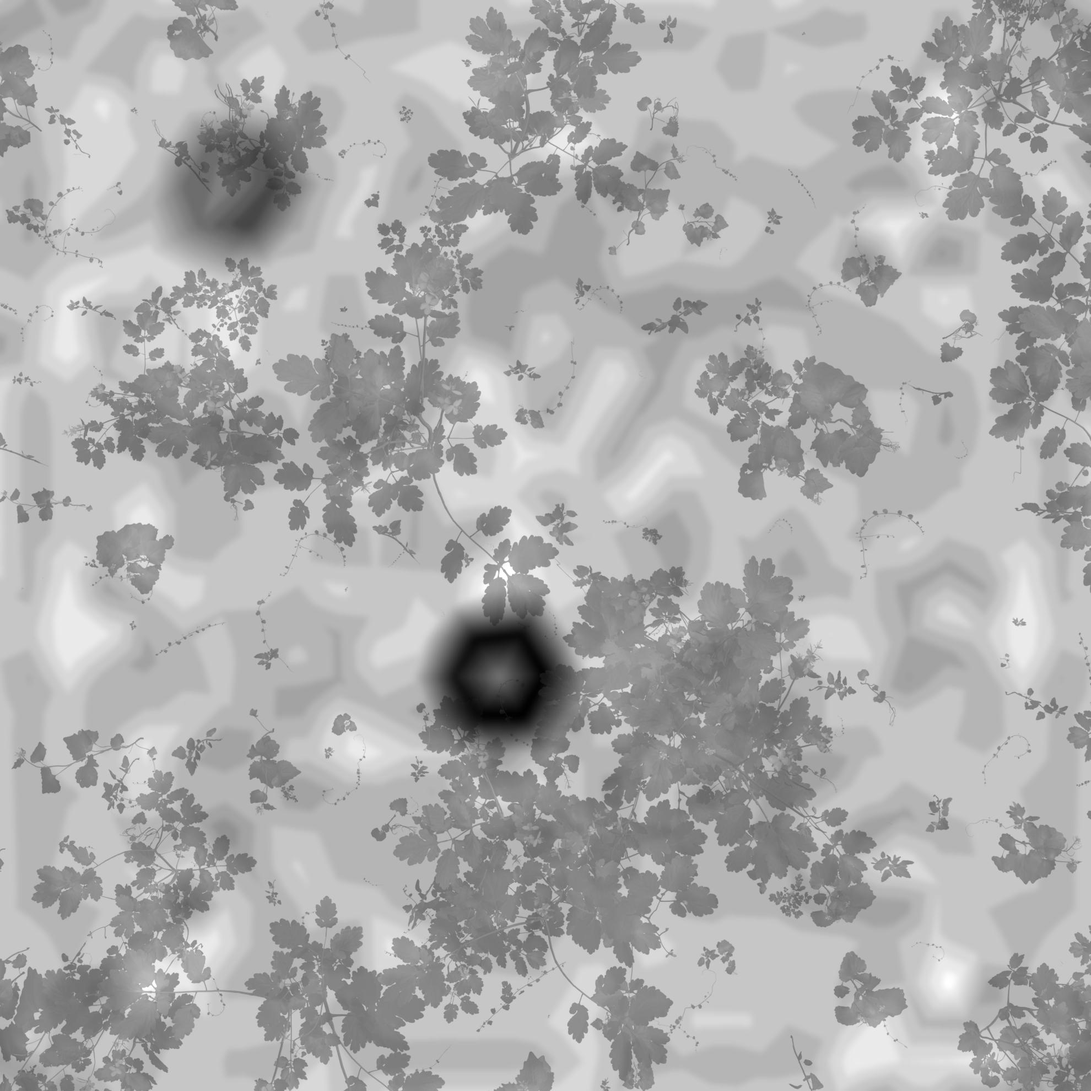landmine: (433, 610, 568, 746), (175, 120, 289, 245)
